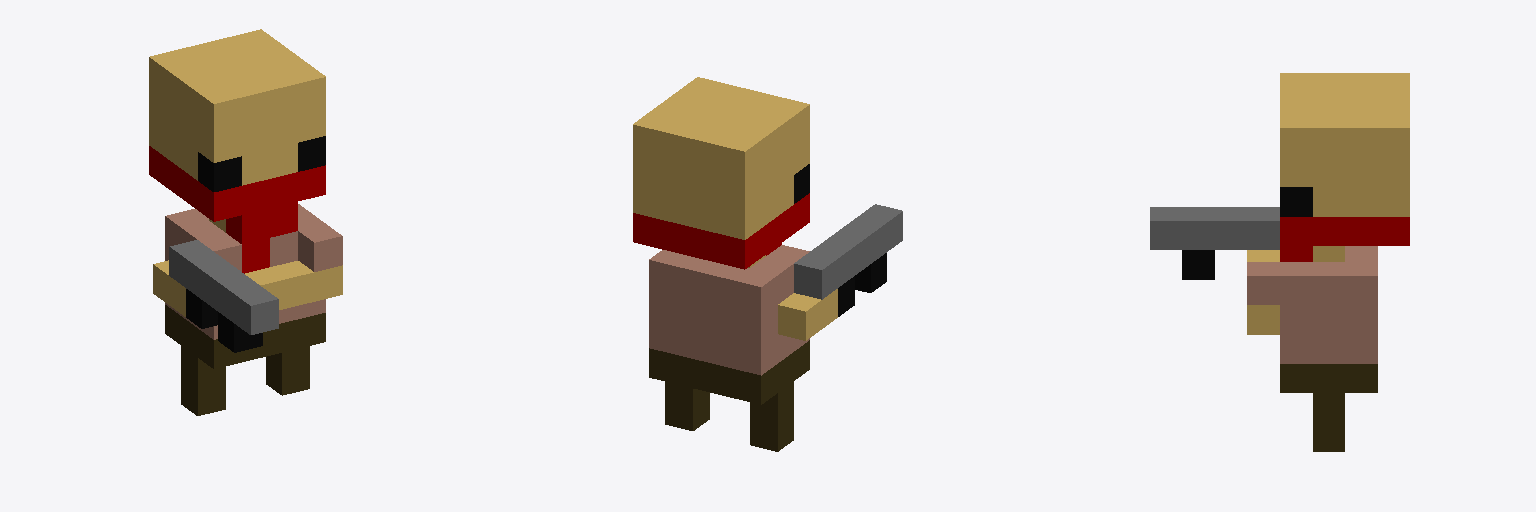
3 views of the same model, side by side, from view 1: azimuth 30°, elevation 25°; view 2: azimuth 150°, elevation 25°; view 3: azimuth 270°, elevation 25° (orthographic).
Parts seen in each view (by area): view 1: object 1; view 2: object 1; view 3: object 1.
Part boxes in pixels (bbox=[...]): object 1: bbox=[149, 29, 342, 415]; object 1: bbox=[633, 77, 902, 451]; object 1: bbox=[1150, 73, 1409, 451].
Bounding box in the file's own units: 0.5 × 1.1 × 0.8.
Materials: 1 (1 with a texture image).